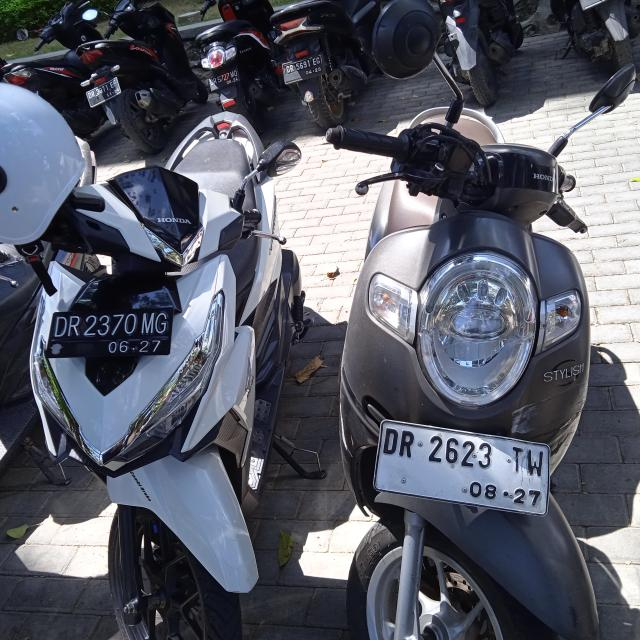plate: (369, 417, 554, 518), (42, 308, 174, 358), (281, 51, 326, 86), (85, 76, 123, 108), (209, 67, 241, 92)
